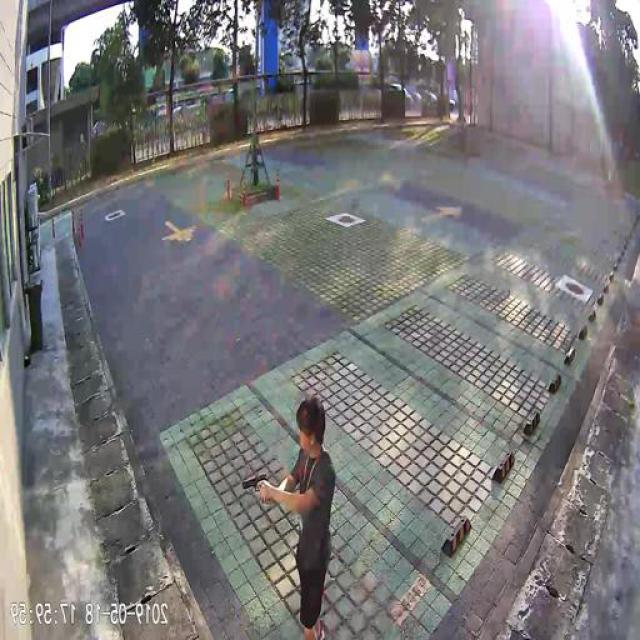Gun: (244, 468, 270, 494)
